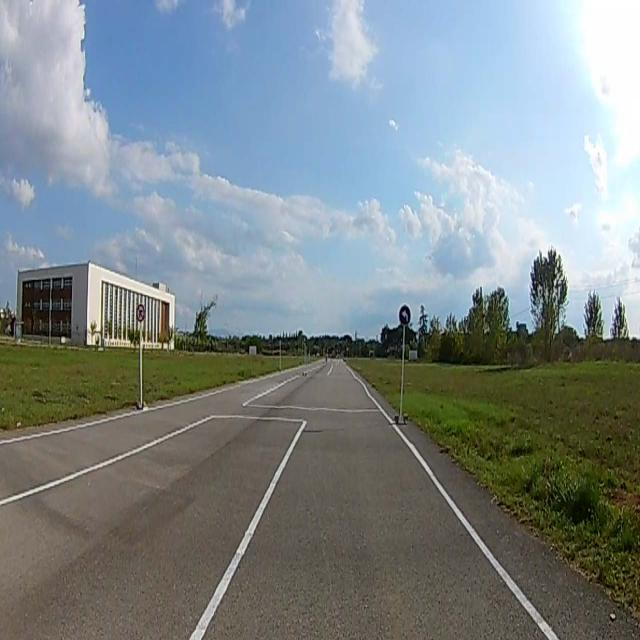sagadonulmez: (136, 306, 144, 322)
sol: (400, 306, 410, 325)
